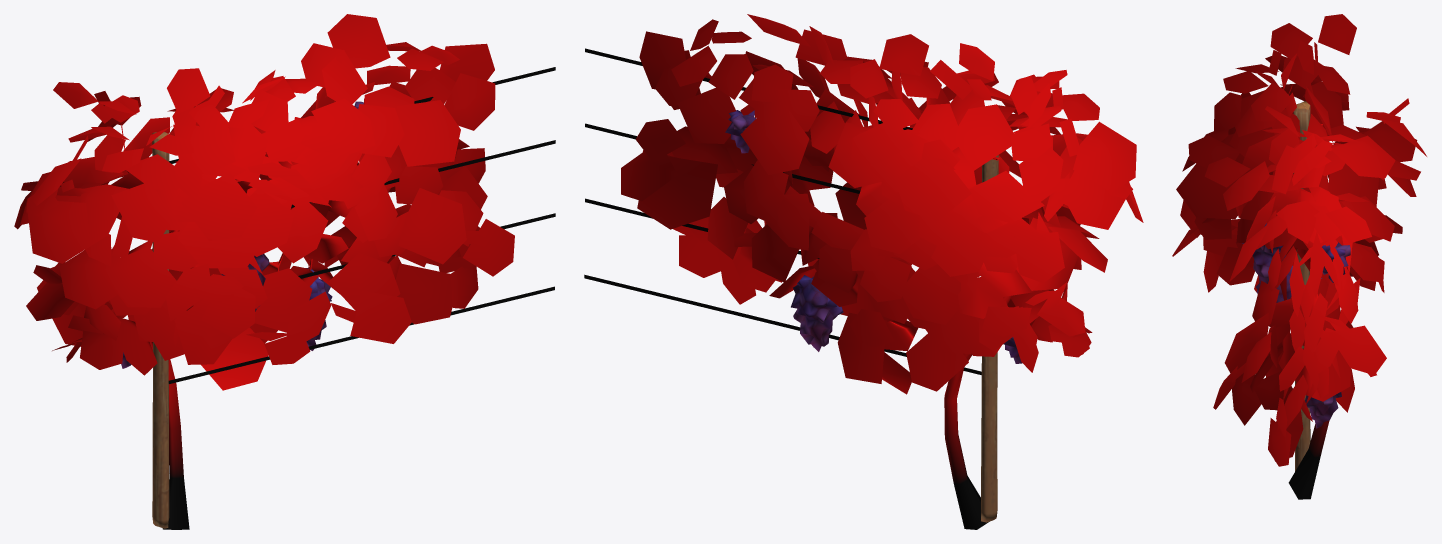
File: SM_Farm_GrapevineFruits_02.fbx
3 views of the same model, side by side, from view 1: azimuth 30°, elevation 25°; view 2: azimuth 150°, elevation 25°; view 3: azimuth 270°, elevation 25° (orthographic). The views are drawn at different scales.
Parts seen in each view (by area): view 1: SM_Farm_GrapevineFruits_02_LOD0; view 2: SM_Farm_GrapevineFruits_02_LOD0; view 3: SM_Farm_GrapevineFruits_02_LOD0.
Boxes of the visible parts, x1=… form: SM_Farm_GrapevineFruits_02_LOD0: x1=14, y1=14, x2=555, y2=529; SM_Farm_GrapevineFruits_02_LOD0: x1=584, y1=14, x2=1143, y2=529; SM_Farm_GrapevineFruits_02_LOD0: x1=1172, y1=14, x2=1426, y2=499.
Bounding box in the file's own units: 203 × 169 × 88.44.
